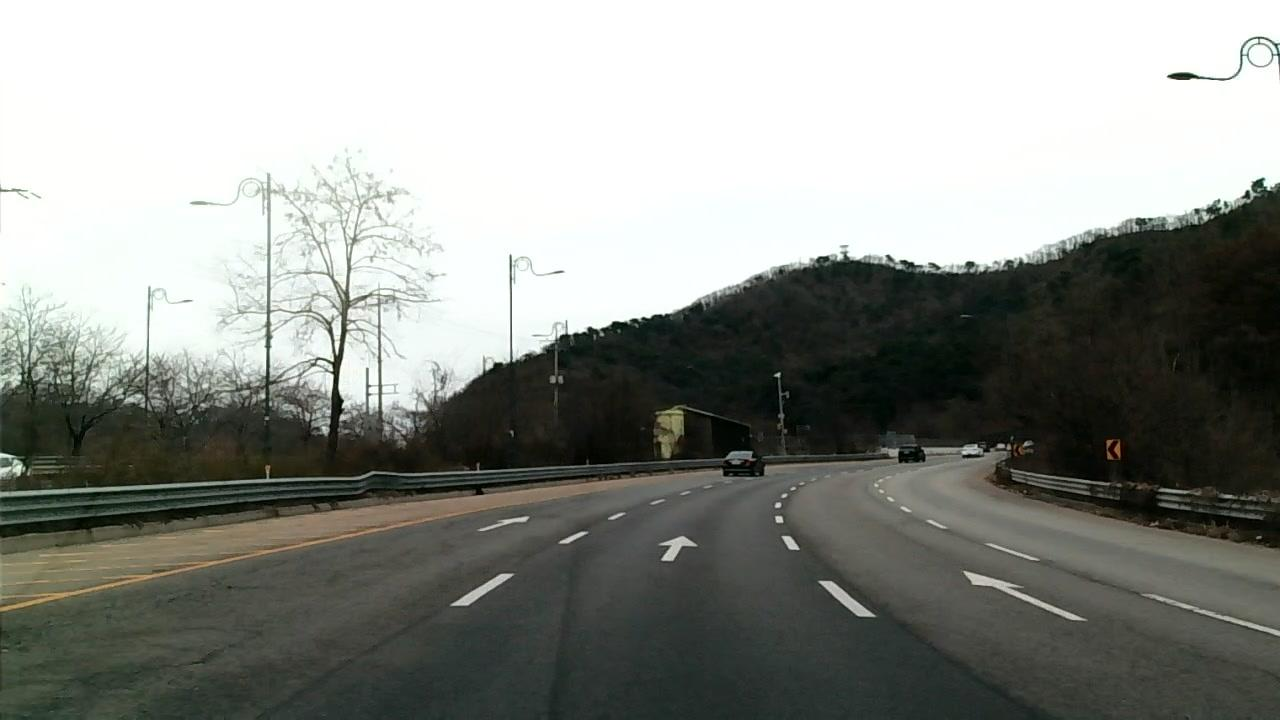erosion: (1, 565, 263, 668)
